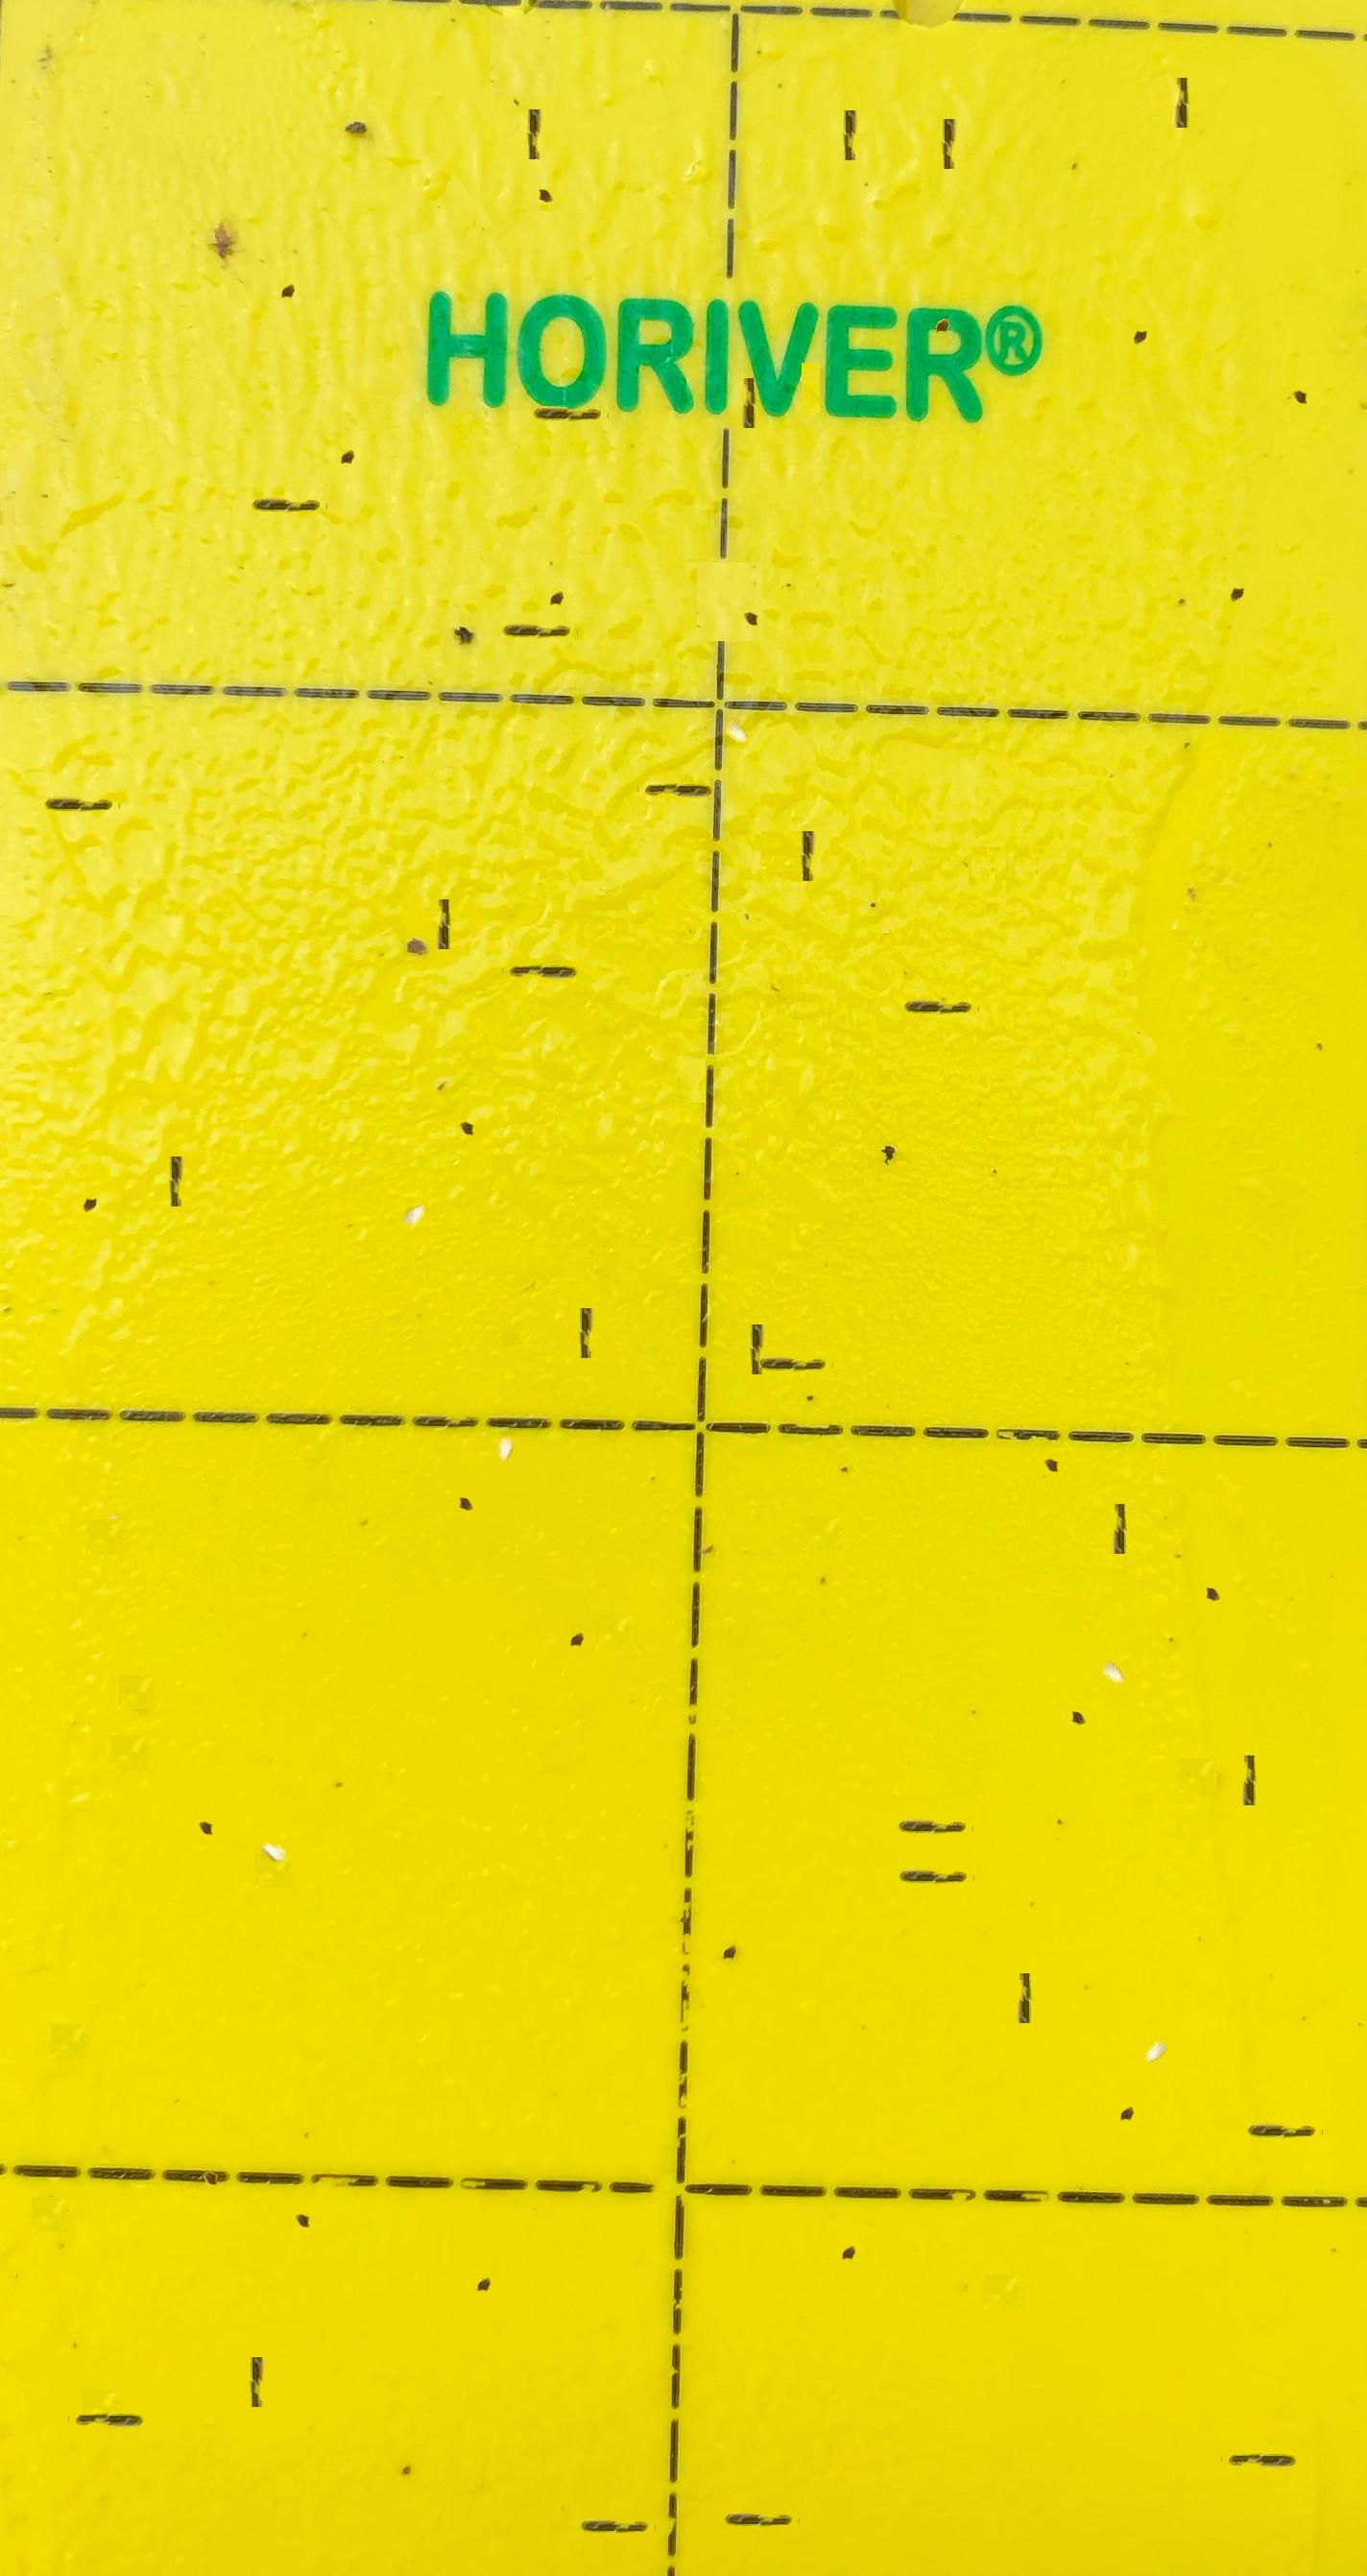white_fly: (256, 1784, 298, 1828), (392, 1152, 435, 1194), (1091, 1607, 1133, 1649), (1135, 1987, 1178, 2029), (716, 666, 757, 709), (487, 1392, 528, 1429)
